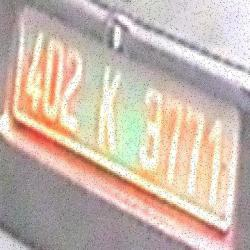LicensePlate: (6, 0, 243, 243)
